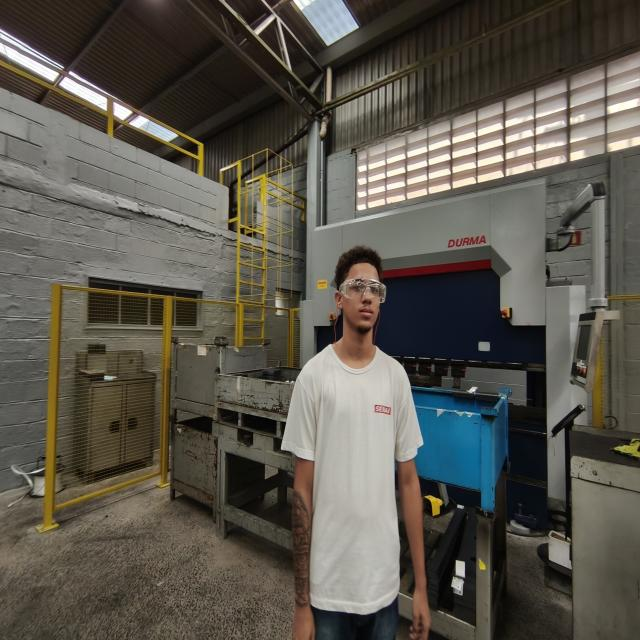oculos-epi: (339, 278, 386, 304)
